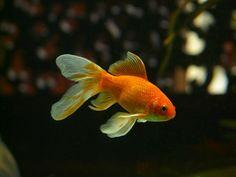goldfish: (57, 52, 183, 137)
